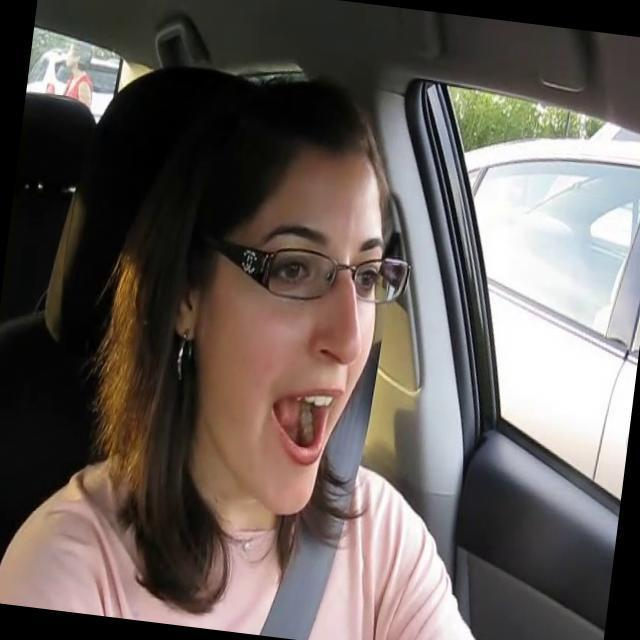open-mouth: (270, 386, 330, 464)
